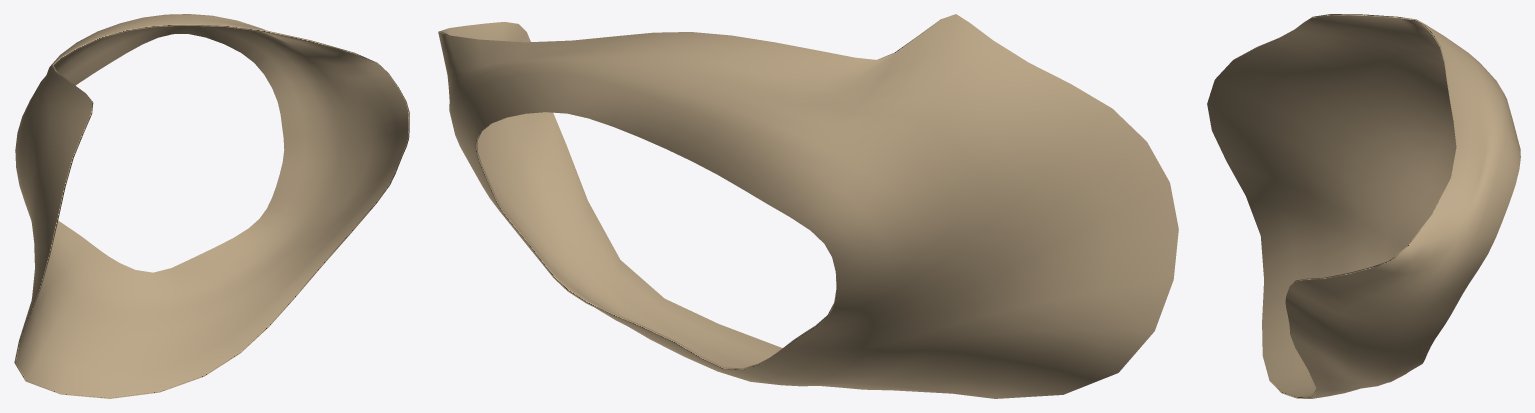
3 views of the same model, side by side, from view 1: azimuth 30°, elevation 25°; view 2: azimuth 150°, elevation 25°; view 3: azimuth 270°, elevation 25° (orthographic). The views are drawn at different scales.
Parts seen in each view (by area): view 1: 右侧颞下颌关节囊; view 2: 右侧颞下颌关节囊; view 3: 右侧颞下颌关节囊.
Part boxes in pixels (x1,y1,x2,y2): 右侧颞下颌关节囊: (14, 14, 409, 398); 右侧颞下颌关节囊: (438, 14, 1178, 398); 右侧颞下颌关节囊: (1207, 14, 1520, 398).
Size of the model in its own units: 0.0337 by 0.0216 by 0.019.
